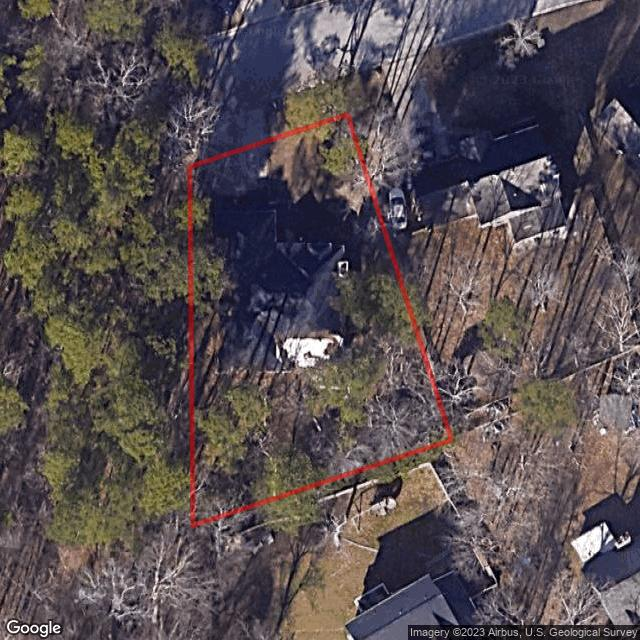Driveway: (203, 140, 355, 243)
House: (215, 210, 346, 373)
